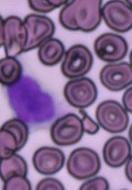M: (6, 70, 70, 128)
